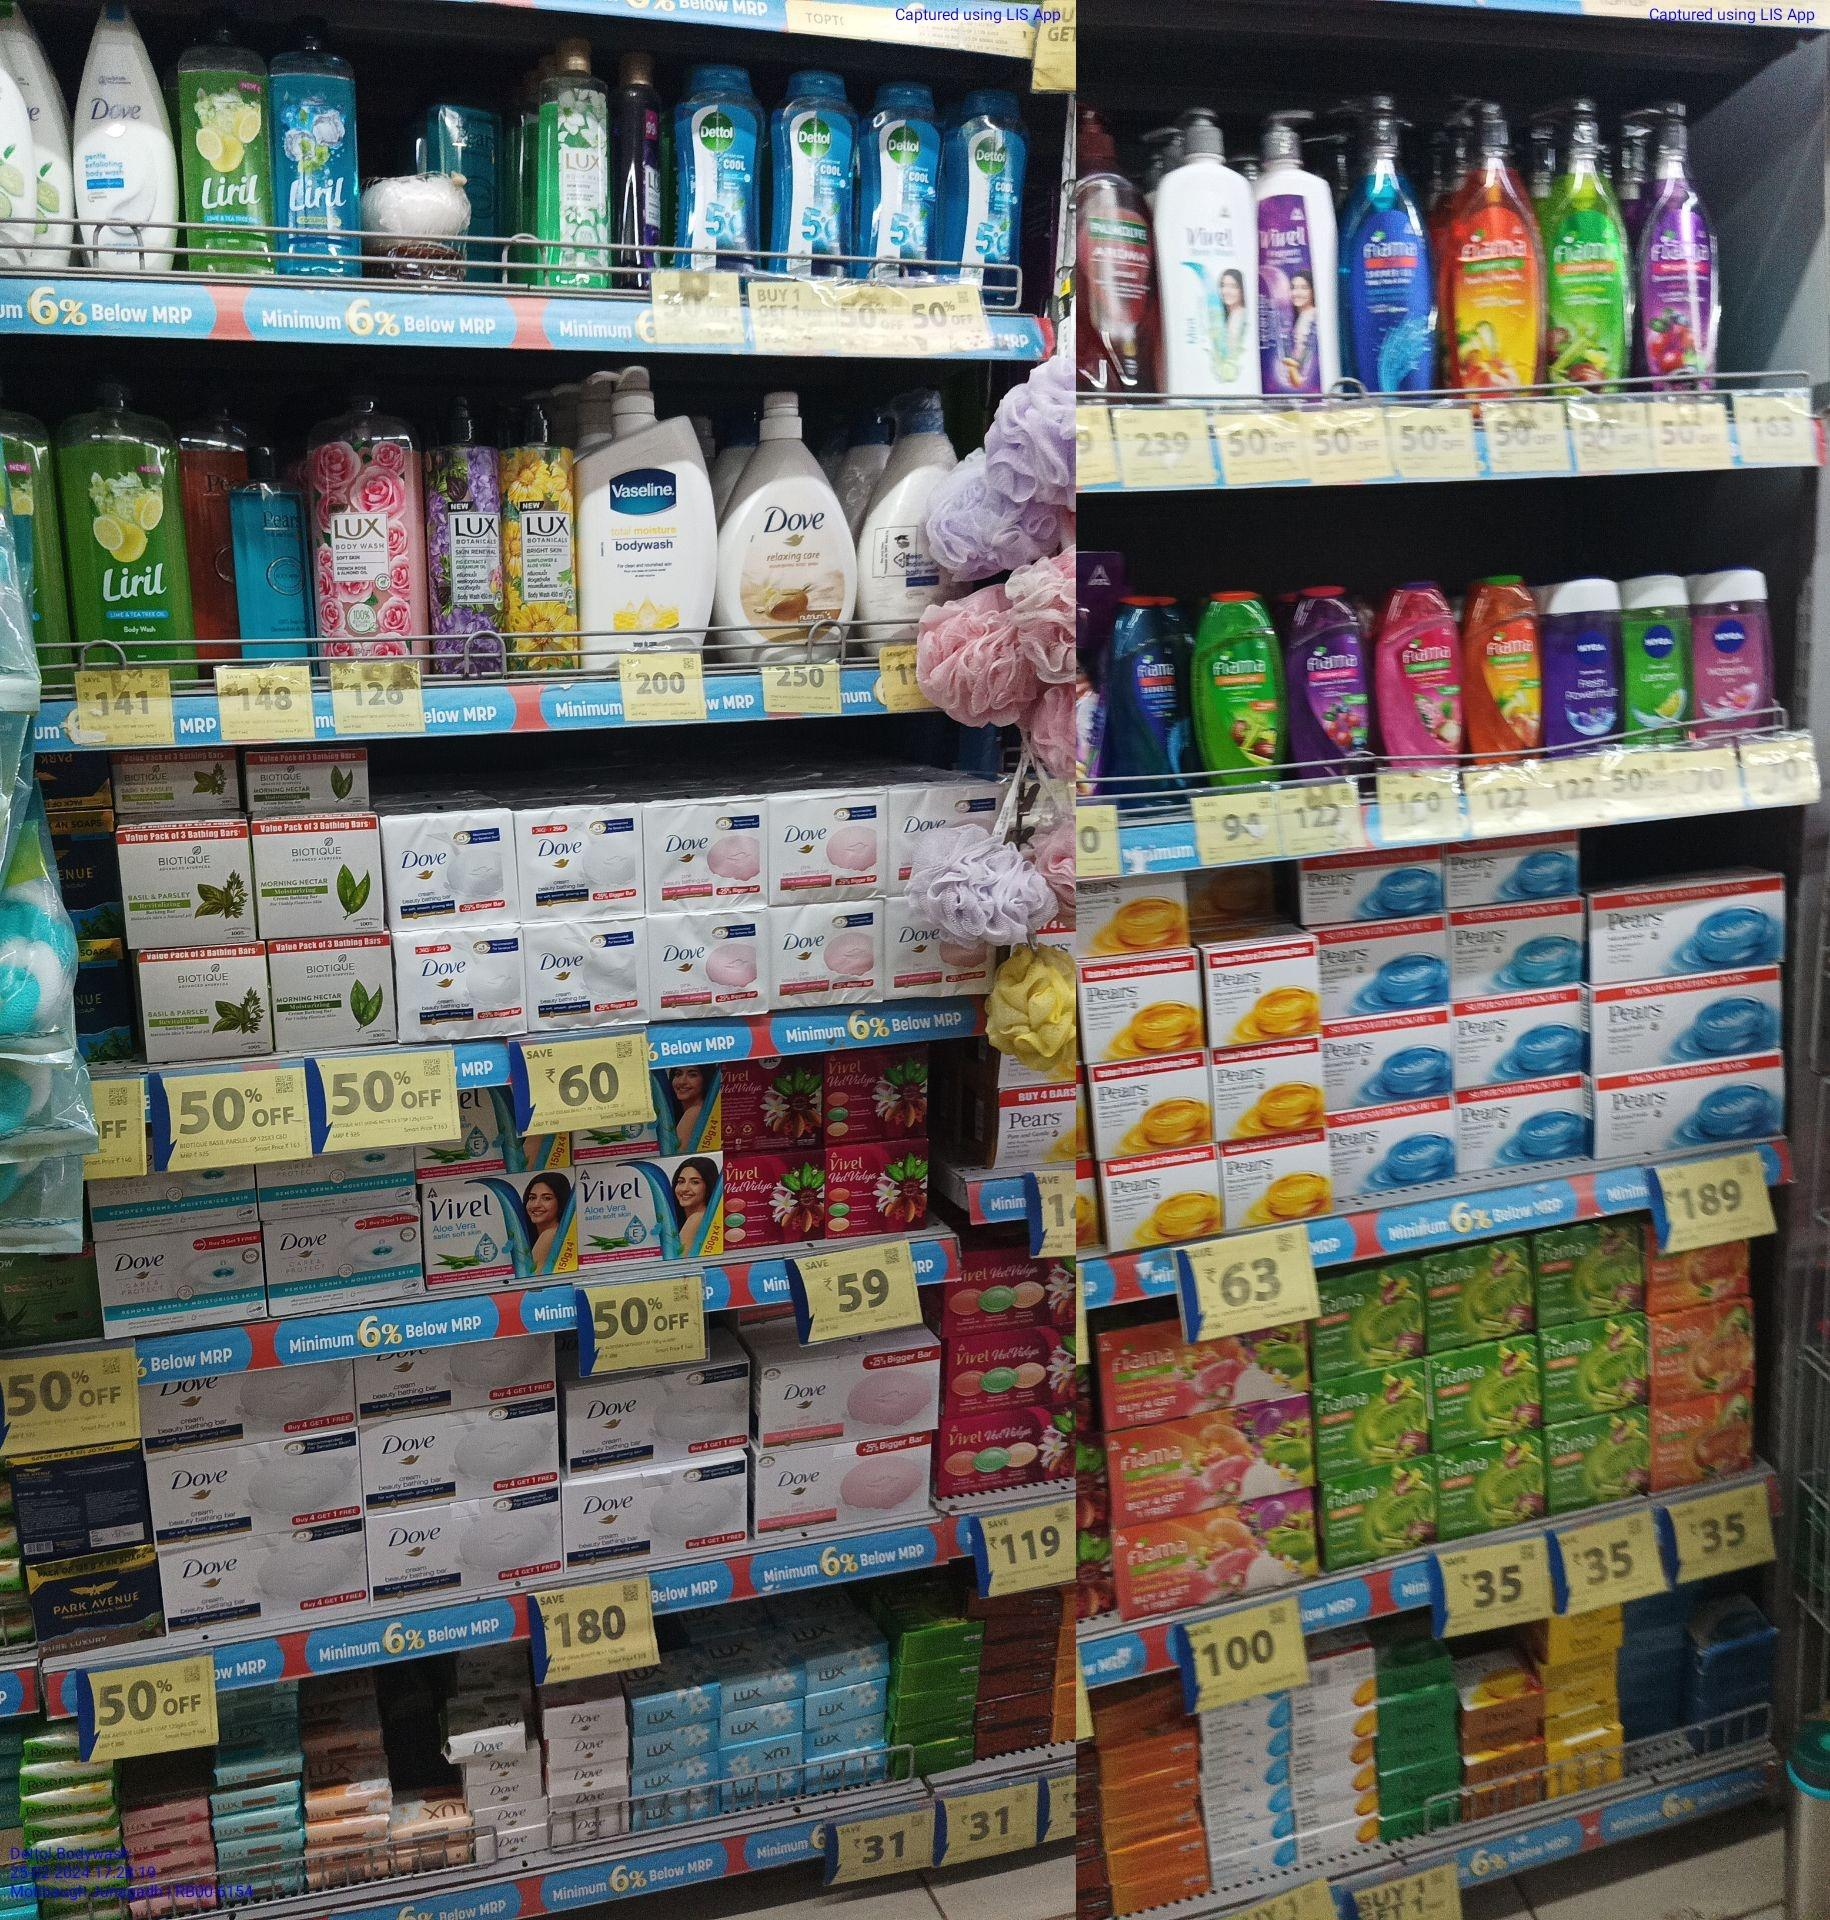Dettol_Bodywash_Cool: (682, 60, 761, 274), (781, 70, 853, 281), (963, 82, 1026, 276), (877, 84, 939, 274)
Dove_Gentle_Exfoliating_Body_Wash_250ML: (77, 14, 175, 274)
Fiama_Shower_Gel_Lemongrass_and_Jojoba_250ML: (1198, 593, 1282, 783)
Fiama_Shower_Gel_Patchouli_and_Macadamia_250ML: (1383, 579, 1458, 765)
Fiama_Shower_Gel_Peach_and_Avocado_250ML: (1467, 574, 1537, 761)
Liril_Cooling_Mint_Body_Wash_250ML: (274, 14, 363, 281)
Liril_Lime_and_Tea_Tree_Oil_Body_Wash_250ML: (180, 10, 269, 283)
Lux_Body_Wash_Skin_Detox_Freesia_Scent_and_Alove_Vera_245ML: (540, 36, 619, 290)
Pears_Pure_Glycerin_and_Mint_Extracts_Body_Wash_250ML: (230, 442, 308, 665)
